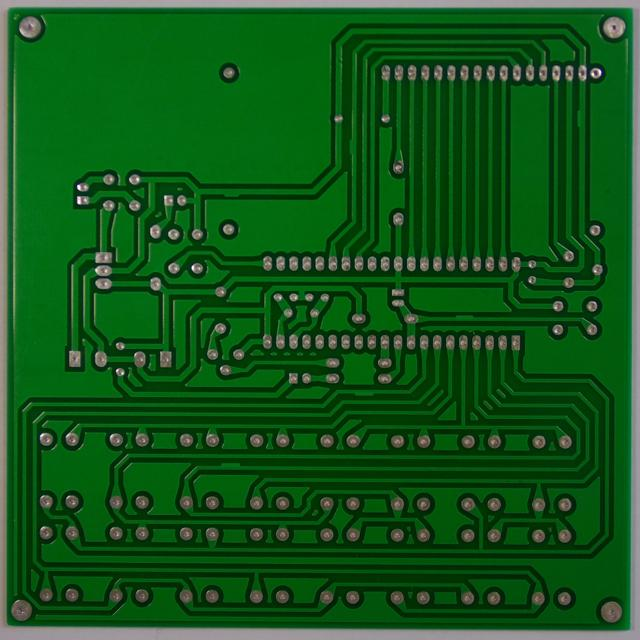spur: (214, 457, 244, 474), (349, 387, 377, 400), (219, 185, 243, 199), (573, 106, 586, 130), (344, 133, 358, 155), (453, 311, 477, 322)
